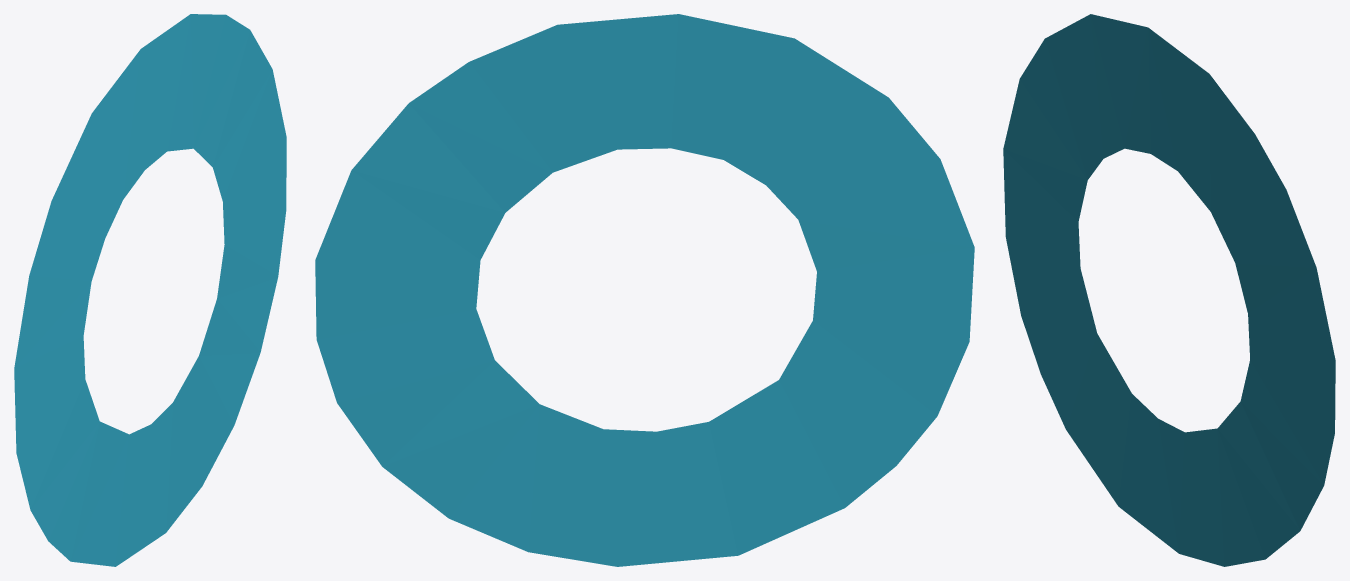
File: link6.dae_8.glb
3 renders of one model, left to right at view 1: azimuth 30°, elevation 25°; view 2: azimuth 150°, elevation 25°; view 3: azimuth 270°, elevation 25°, orthographic. The views are drawn at different scales.
Parts seen in each view (by area): view 1: world; view 2: world; view 3: world.
Boxes of the visible parts, x1,y1,x2,y2 form: world: [14, 14, 286, 566]; world: [315, 14, 974, 566]; world: [1003, 14, 1335, 566].
Size of the model in its own units: 0.00299 by 0.0033 by 0.00196.
